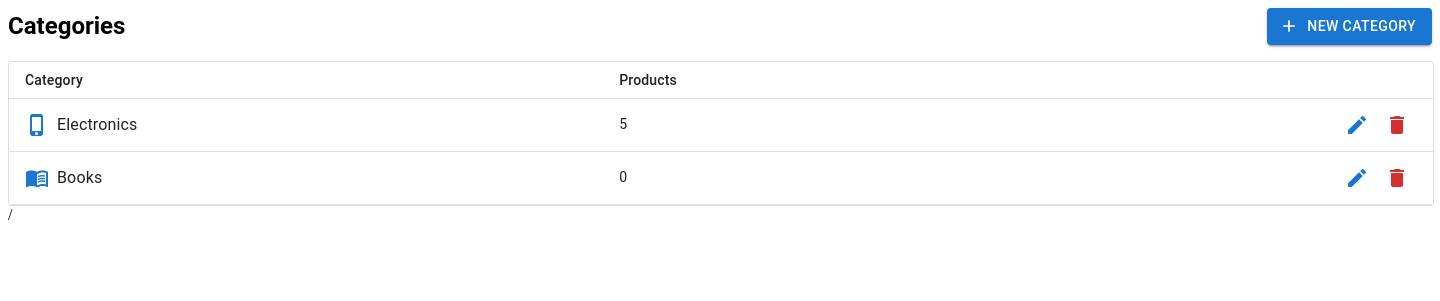
Test: AdminCategories › explains why a category with products cannot be deleted
This screenshot has width=1440, height=301.
Click the button named "Delete Electronics" at x=1397, y=124, box top-left (1377, 104), bottom-right (1417, 144)
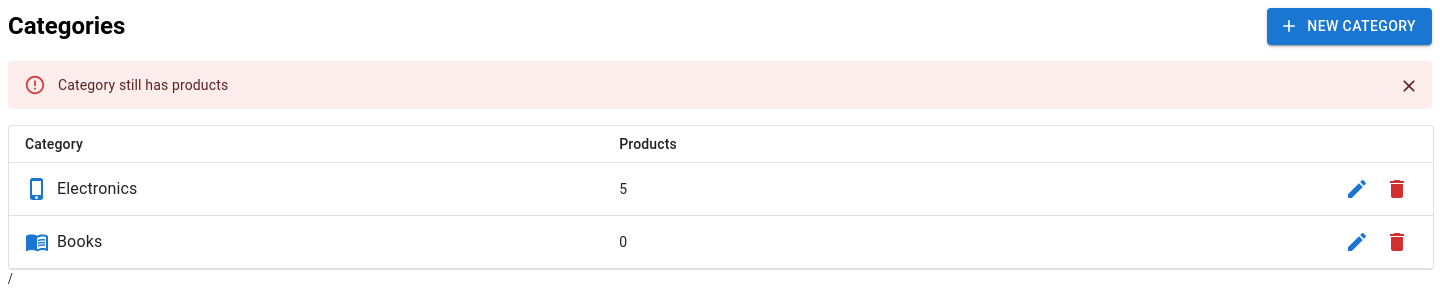
Result: the text "Category still has products" is shown at top-left (58, 76), bottom-right (228, 92)
